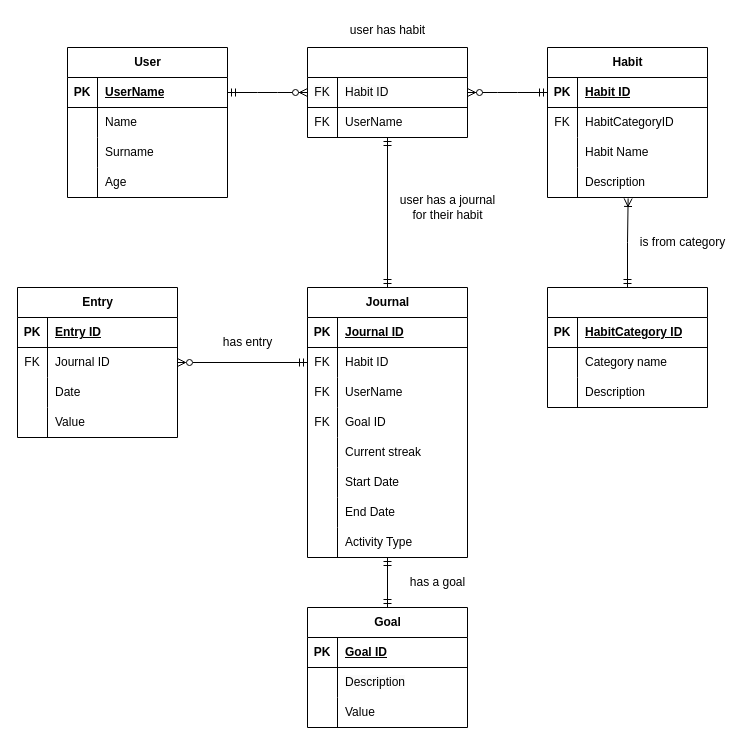
This 755x745 diagram has some shape labels left out. Here are the shapes that lost their labels. From the top down, the box of each, then its label:
(306, 46, 468, 138): User_Habit
(546, 286, 708, 408): Habits category
